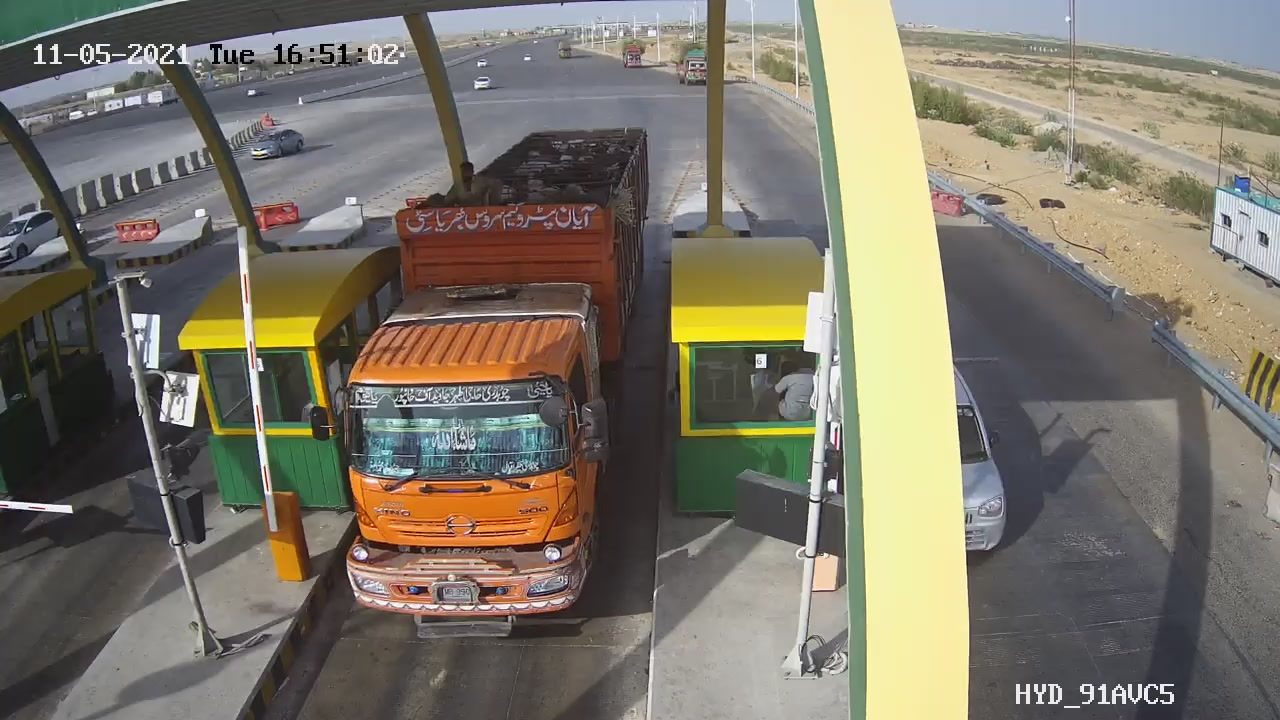F6: (297, 111, 671, 655)
